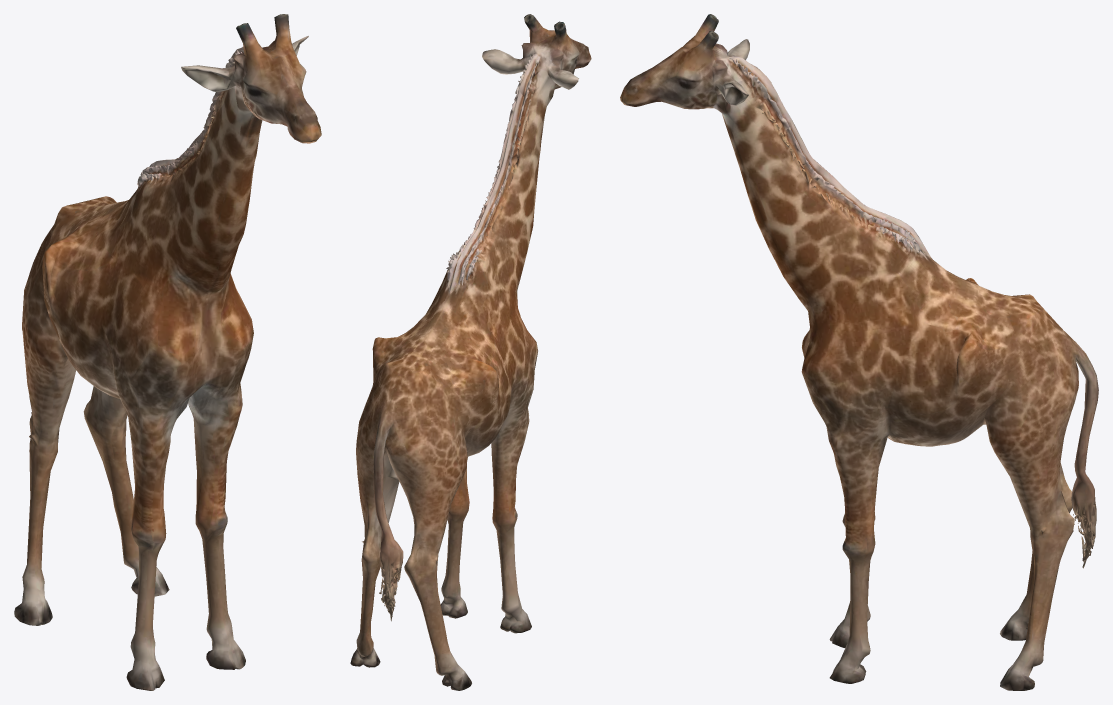
File: jirafa.glb
3 renders of one model, left to right at view 1: azimuth 30°, elevation 25°; view 2: azimuth 150°, elevation 25°; view 3: azimuth 270°, elevation 25°, orthographic. The views are drawn at different scales.
Visible parts, largest first — view 1: geometry_0; view 2: geometry_0; view 3: geometry_0.
Boxes of the visible parts, x1=… form: geometry_0: x1=14, y1=14, x2=321, y2=690; geometry_0: x1=350, y1=14, x2=591, y2=690; geometry_0: x1=620, y1=14, x2=1098, y2=690.
Size of the model in its own units: 0.2312 by 1 by 0.6823.
Materials: 1 (1 with a texture image).
